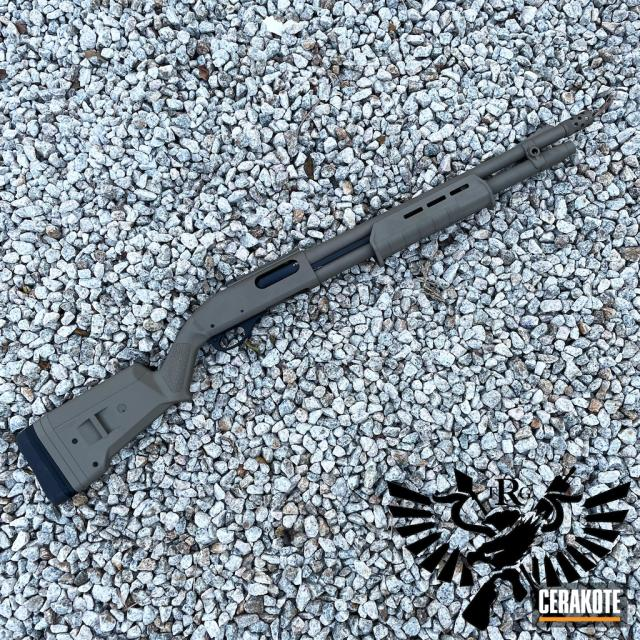ShotGun: (12, 98, 612, 508)
